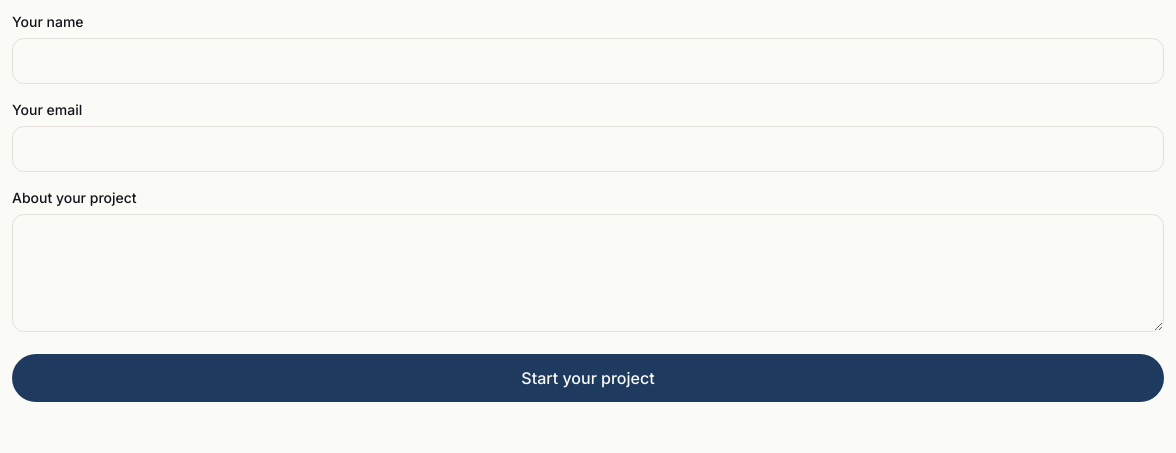
ContactForm (validated form) › sends a valid message and confirms it
Type "Test Visitor" into the field labelled "Your name" at (588, 61), box [12, 38, 1164, 84]
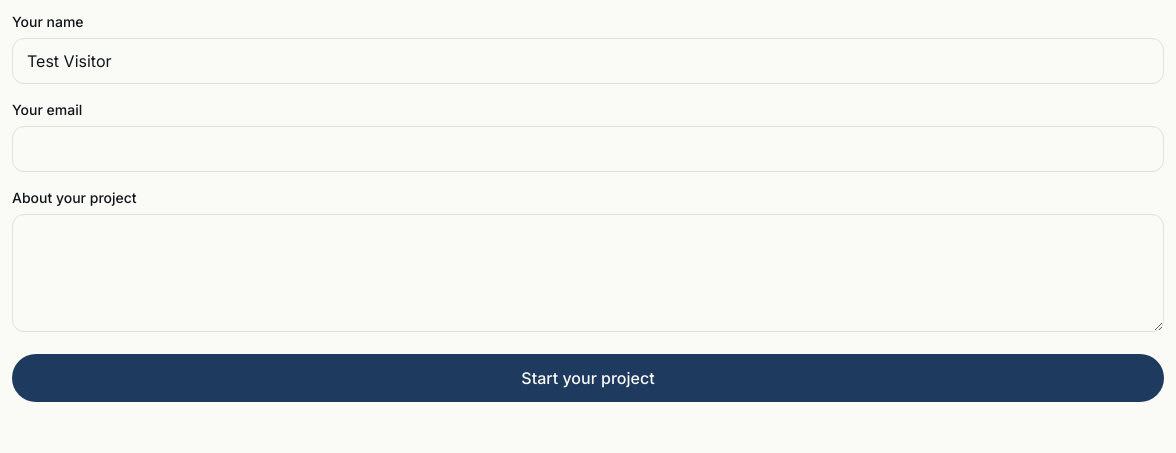
Type "visitor@example.com" into the field labelled "Your email" at (588, 149), box [12, 126, 1164, 172]
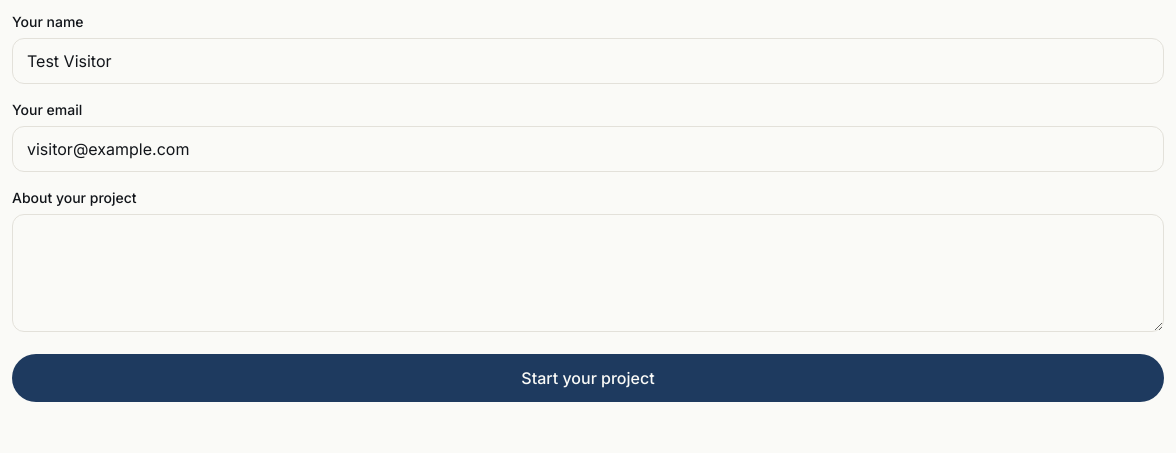
Type "A landing page for my bakery, please." into the text box labelled "About your project" at (588, 273), box [12, 214, 1164, 332]
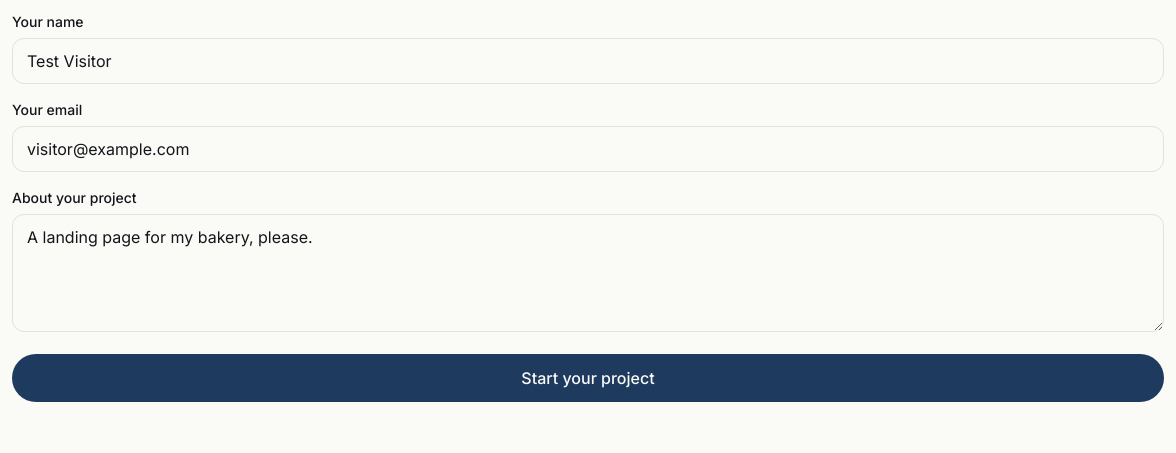
Click the button "Start your project" at (588, 378), box [12, 354, 1164, 402]
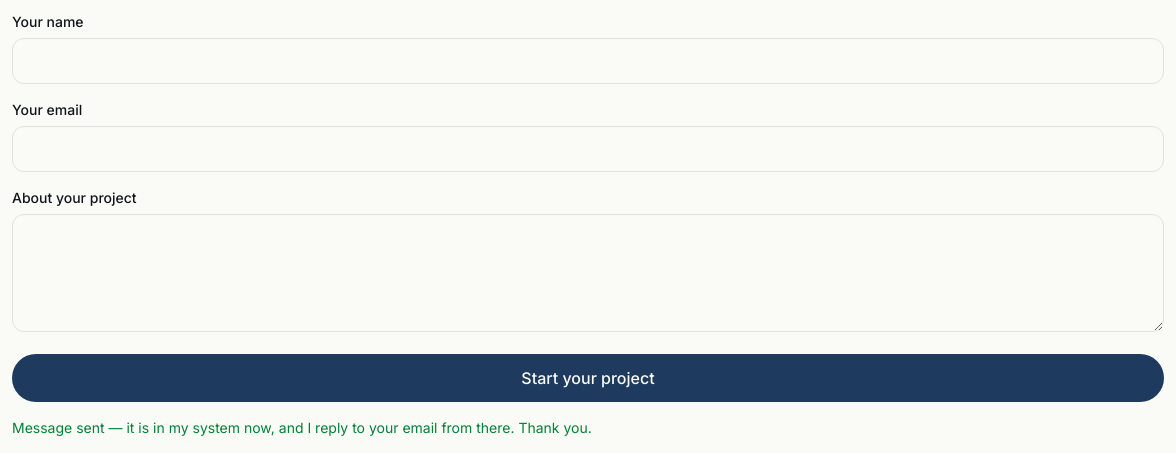
Expected: the message shows "Message sent", [12, 419, 592, 436]
